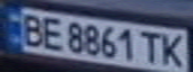1: (115, 26, 139, 61)
6: (100, 25, 118, 60)
8: (78, 21, 103, 56), (63, 19, 84, 55)
B: (15, 11, 48, 47)
E: (36, 15, 66, 52)
K: (157, 31, 190, 69)
T: (136, 28, 163, 65)
